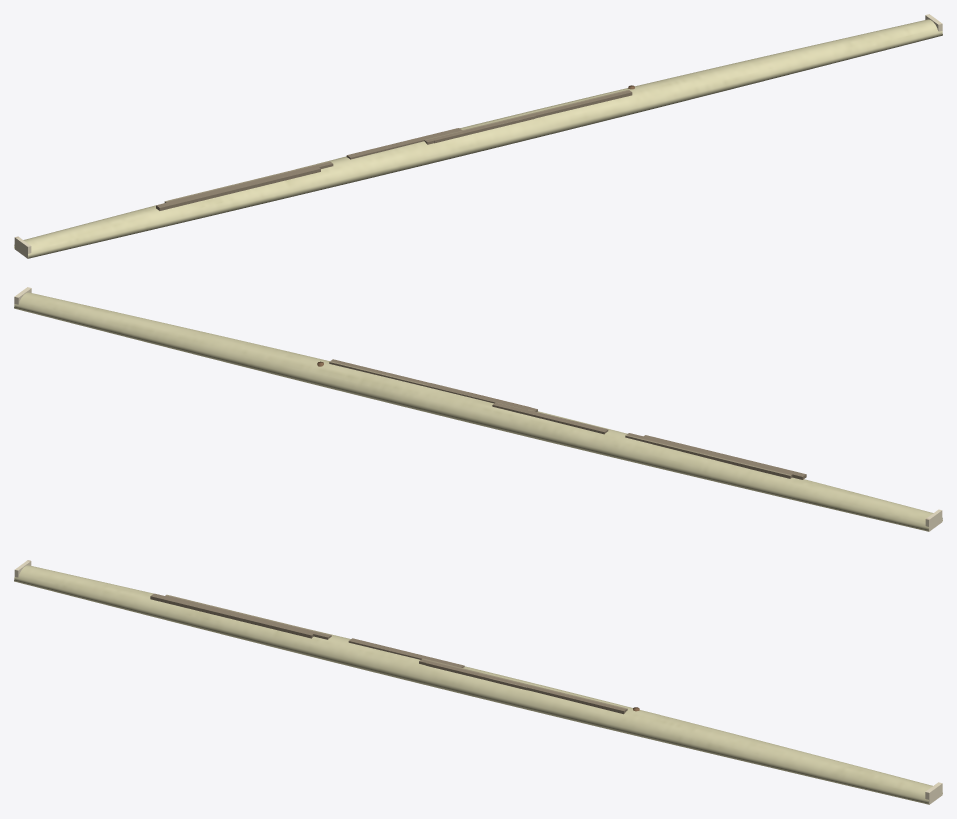
Rendered from FL_BowStave.fbx.
3 views of the same model, one above another, from view 1: azimuth 30°, elevation 25°; view 2: azimuth 150°, elevation 25°; view 3: azimuth 330°, elevation 25° (orthographic).
Visible parts, largest first — view 1: FL_BowStave; view 2: FL_BowStave; view 3: FL_BowStave.
Boxes of the visible parts, bbox=[...] form: FL_BowStave: bbox=[14, 14, 942, 258]; FL_BowStave: bbox=[14, 287, 942, 531]; FL_BowStave: bbox=[14, 560, 942, 804].
Bounding box in the file's own units: 0.1167 × 0.00204 × 0.00467.
